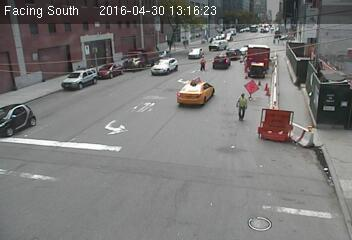neg: (121, 119, 159, 168), (22, 171, 54, 213), (4, 97, 35, 139), (57, 63, 87, 103), (279, 107, 308, 146), (180, 131, 208, 168), (141, 189, 166, 223), (58, 131, 82, 164), (134, 47, 157, 78), (255, 50, 277, 79), (74, 189, 96, 218), (175, 90, 196, 117), (241, 204, 261, 230)
pos: (232, 90, 256, 122), (197, 54, 212, 73)
